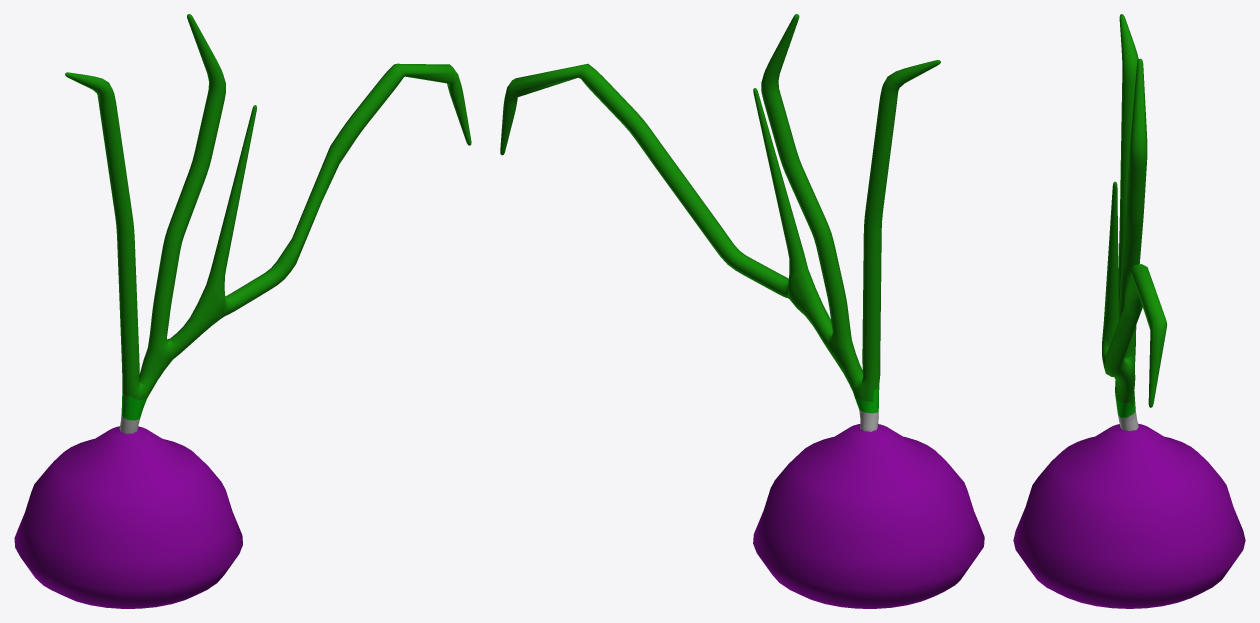
Rendered from Oignon_Croissance_3.fbx.
3 renders of one model, left to right at view 1: azimuth 30°, elevation 25°; view 2: azimuth 150°, elevation 25°; view 3: azimuth 270°, elevation 25°, orthographic.
Visible parts, largest first — view 1: Oignon_Base, Feuilles; view 2: Oignon_Base, Feuilles; view 3: Oignon_Base, Feuilles.
Boxes of the visible parts, x1,y1,x2,y2 form: Oignon_Base: [14, 426, 242, 608]; Feuilles: [65, 14, 471, 433]; Oignon_Base: [753, 424, 984, 608]; Feuilles: [500, 14, 940, 431]; Oignon_Base: [1013, 423, 1245, 608]; Feuilles: [1102, 14, 1167, 431].
Size of the model in its own units: 85.1 by 100 by 37.35.
